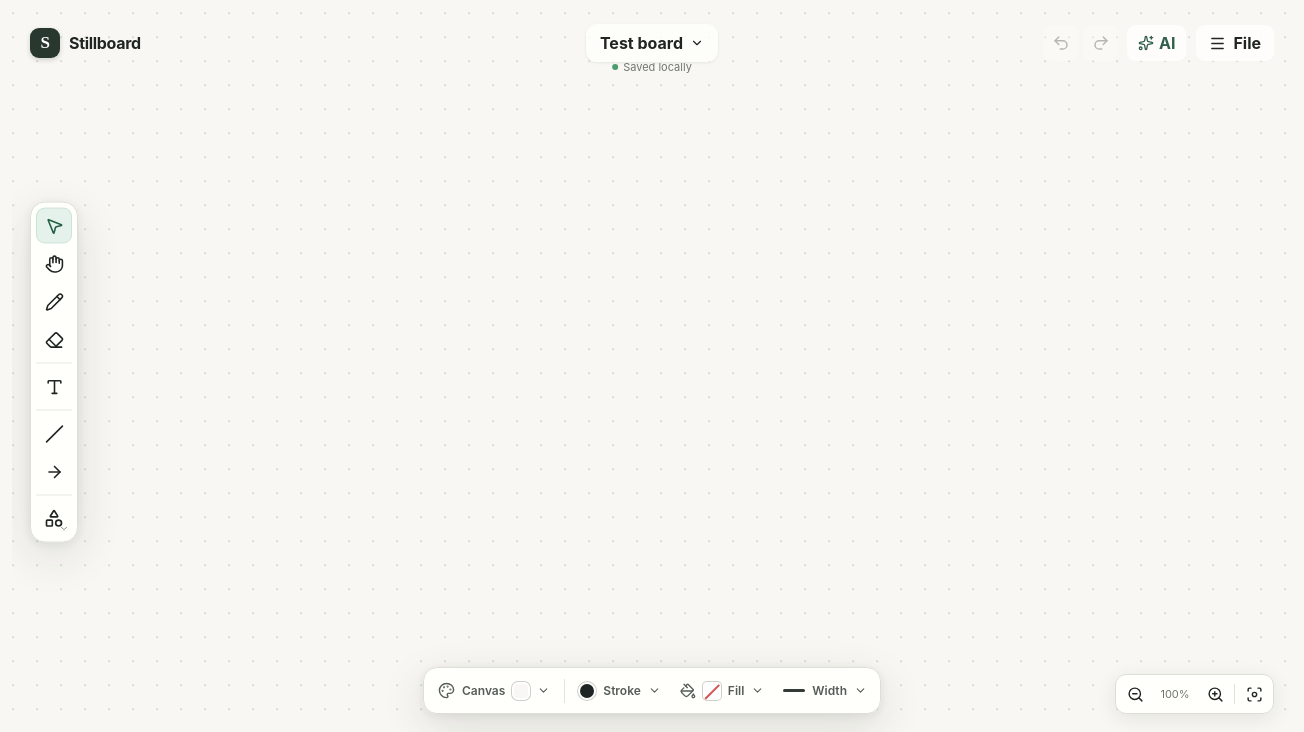
Scenario: Stillboard core interactions › uses two fingers to pan and pinch without creating a canvas element
Step 1. Press the mouse on the icon named "Infinite whiteboard canvas" → x=652, y=372, box 12,12 -> 1292,731
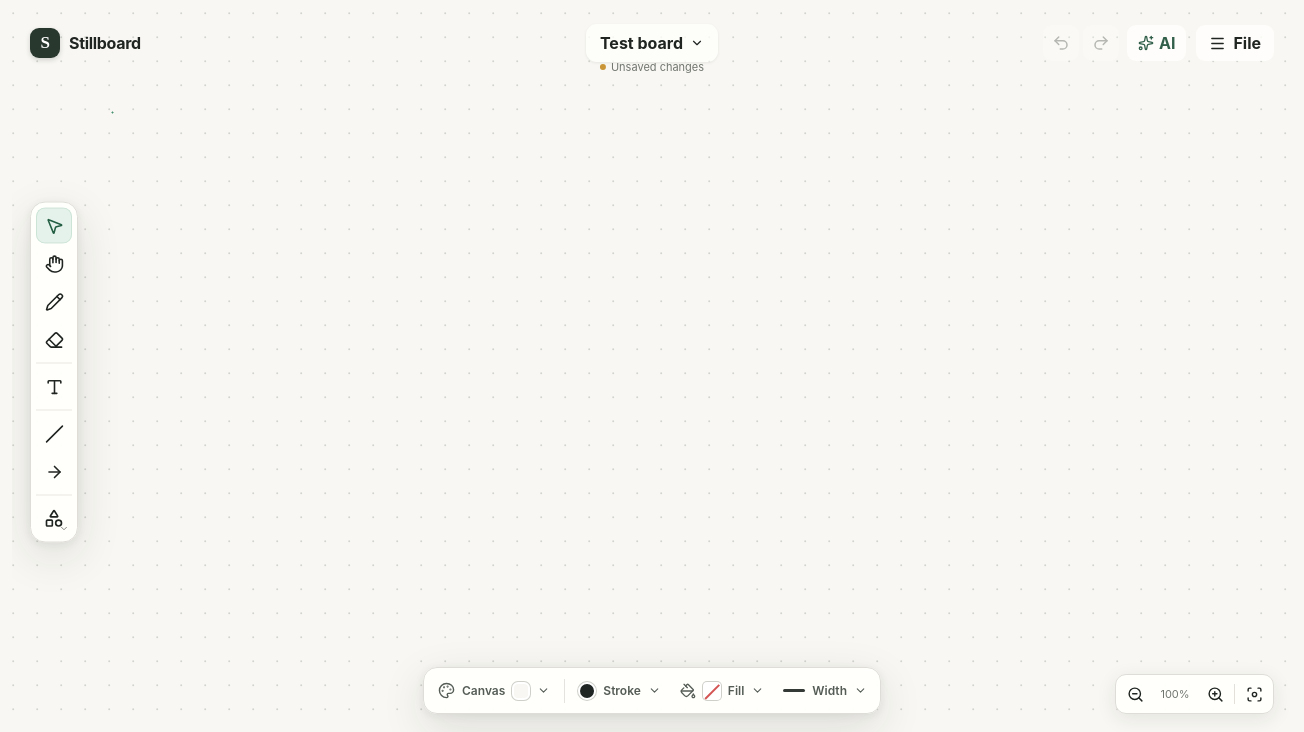
Step 2. Press the mouse on the icon named "Infinite whiteboard canvas" → x=652, y=372, box 12,12 -> 1292,731
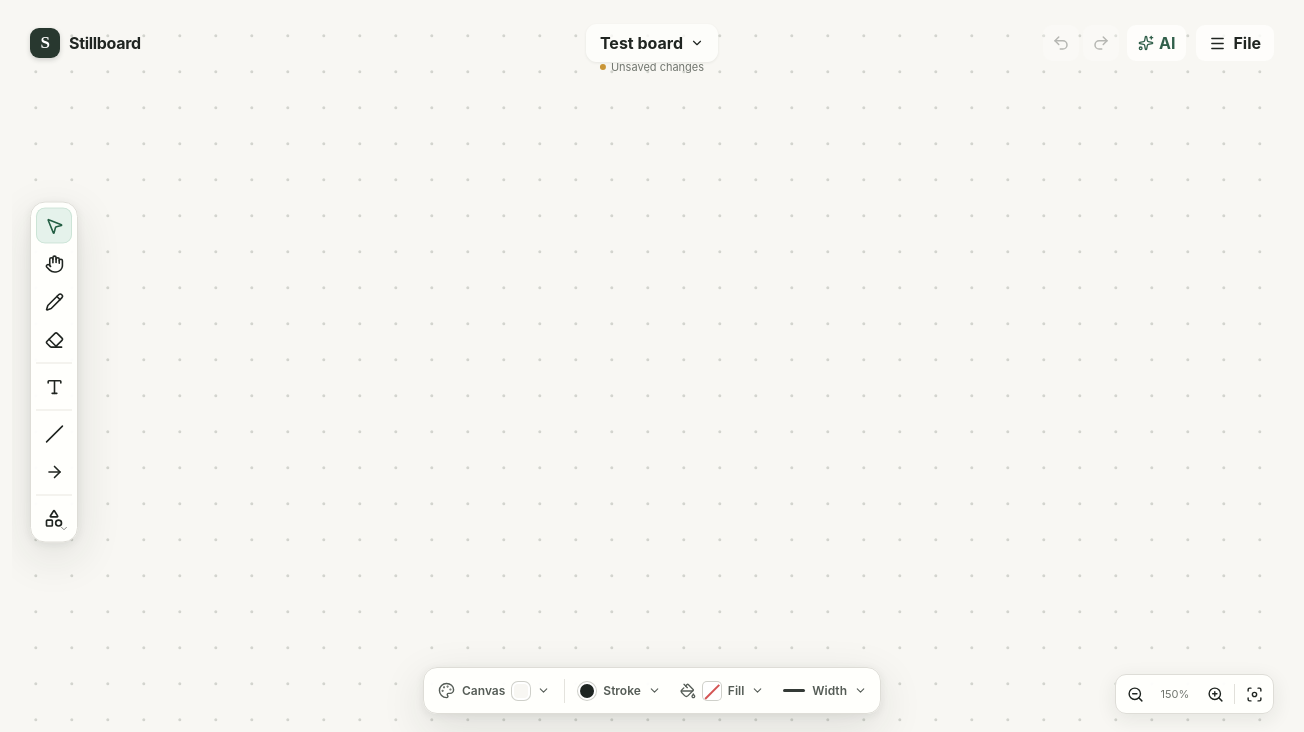
Now the button "150%" is shown, box 1151,678 -> 1199,710
